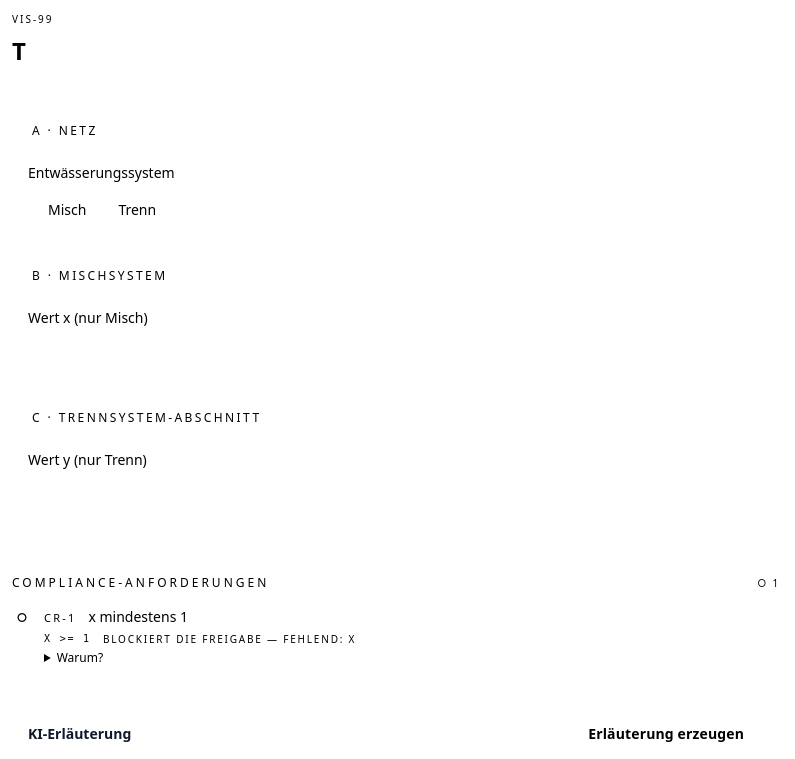
Test: WorksheetForm visible_when (Plan 2a Task 10) › 2. select trenn: x leaves the DOM, y stays, CR-1 becomes "Nicht anwendbar"
Click the button "Trenn".
click(137, 210)  # box left=102, top=194, right=172, bottom=226
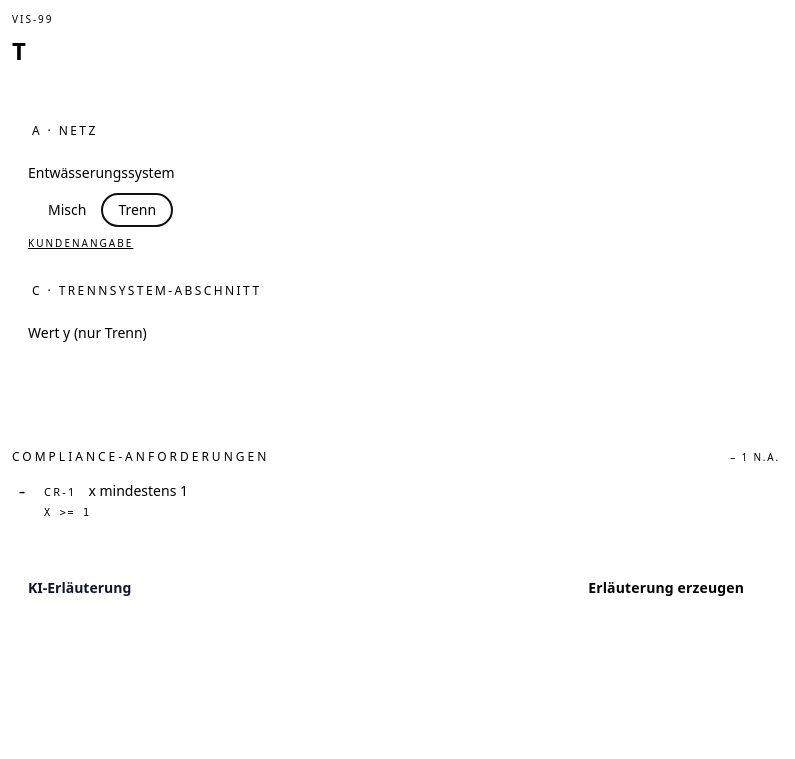
Check: the text "Wert x (nur Misch)" is gone
Check: the text named "Nicht anwendbar" is shown, box left=19, top=482, right=25, bottom=500
